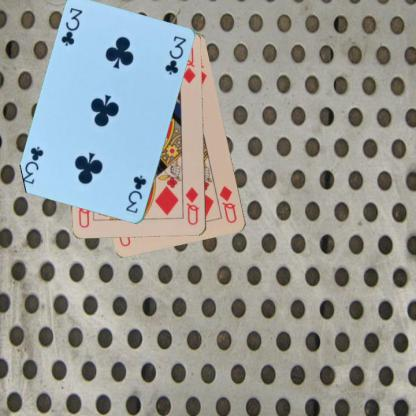3c: (58, 5, 84, 48), (123, 173, 148, 215)
Qd: (216, 183, 238, 225), (182, 185, 200, 226)
